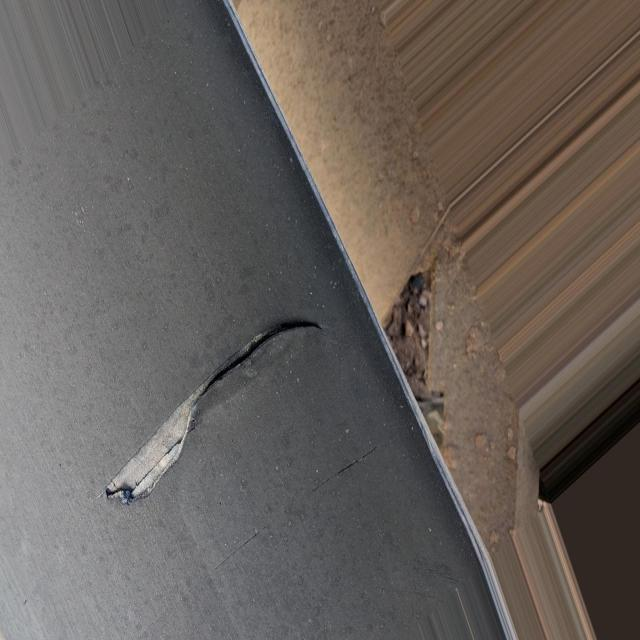Tear: (106, 319, 322, 498)
